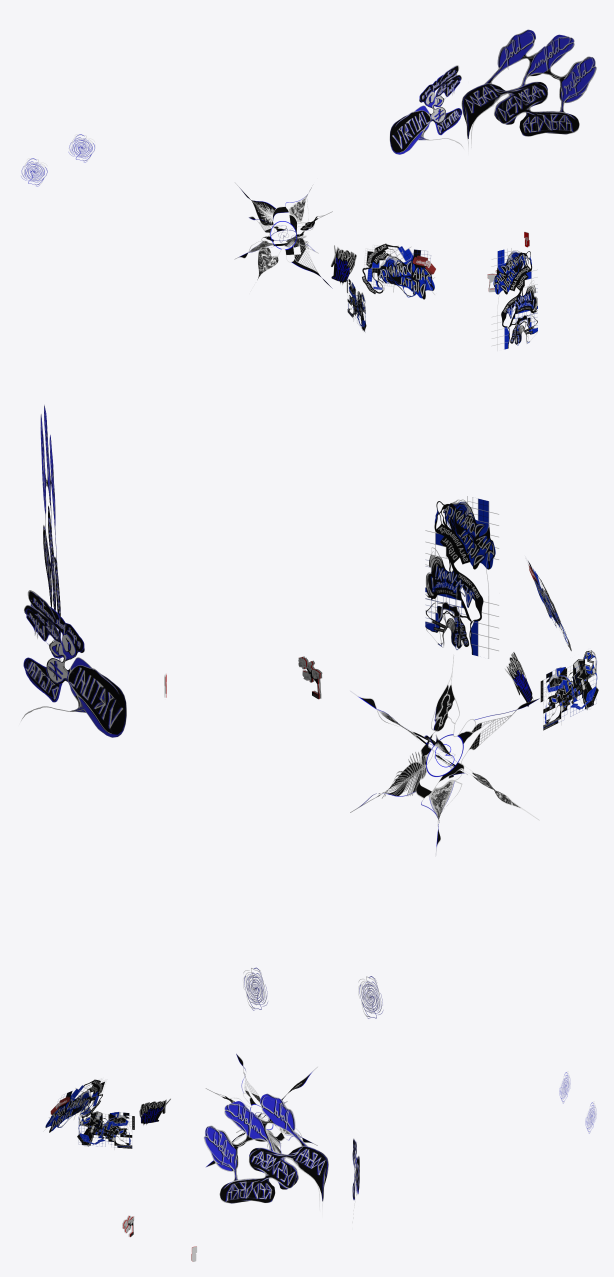
The model's file is transp azul.glb.
3 renders of one model, top to bottom at view 1: azimuth 30°, elevation 25°; view 2: azimuth 150°, elevation 25°; view 3: azimuth 270°, elevation 25°, orthographic. The views are drawn at different scales.
Parts seen in each view (by area): view 1: TRANSPARENCIAS; view 2: TRANSPARENCIAS; view 3: TRANSPARENCIAS.
Part boxes in pixels (x1,y1,x2,y2): TRANSPARENCIAS: (21,29,596,350); TRANSPARENCIAS: (21,404,598,1018); TRANSPARENCIAS: (45,1053,596,1261).
Bounding box in the file's own units: 174 × 80.52 × 213.
14 materials, 14 textured.
